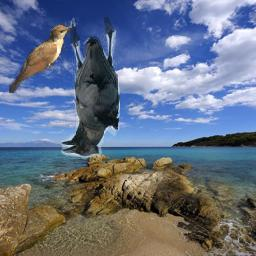Crow: (62, 18, 121, 161)
Cuckoo: (10, 25, 73, 94)
